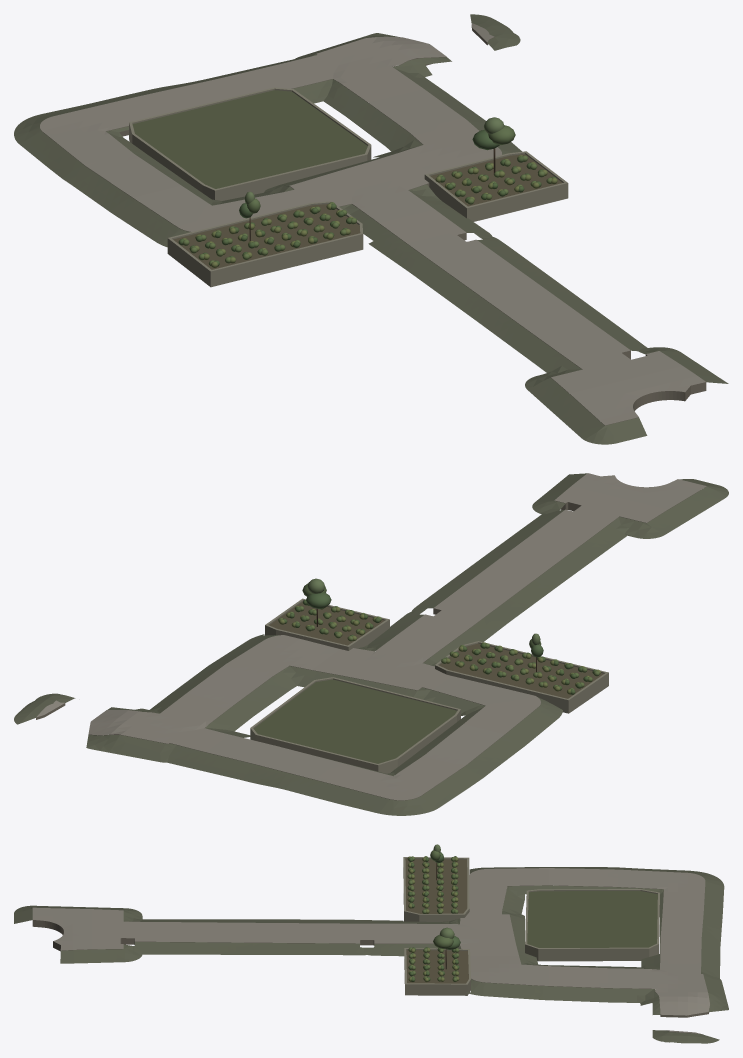
The model's file is site.glb.
3 views of the same model, one above another, from view 1: azimuth 30°, elevation 25°; view 2: azimuth 150°, elevation 25°; view 3: azimuth 270°, elevation 25° (orthographic). The views are drawn at different scales.
Parts seen in each view (by area): view 1: onyx-bridge-underpass, onyx-bridge-garden-soil, onyx-bridge-garden-curbs, onyx-bridge-understory, onyx-bridge-walk-edges, onyx-bridge-inventory-trees; view 2: onyx-bridge-underpass, onyx-bridge-garden-soil, onyx-bridge-garden-curbs, onyx-bridge-understory, onyx-bridge-walk-edges, onyx-bridge-inventory-trees; view 3: onyx-bridge-underpass, onyx-bridge-garden-soil, onyx-bridge-garden-curbs, onyx-bridge-understory, onyx-bridge-walk-edges, onyx-bridge-inventory-trees.
Part boxes in pixels (x1,y1,x2,y2): onyx-bridge-underpass: [14, 14, 728, 444]; onyx-bridge-garden-soil: [132, 90, 562, 269]; onyx-bridge-garden-curbs: [129, 87, 568, 287]; onyx-bridge-understory: [178, 155, 557, 267]; onyx-bridge-walk-edges: [40, 25, 706, 425]; onyx-bridge-inventory-trees: [239, 117, 515, 240]; onyx-bridge-underpass: [14, 473, 728, 815]; onyx-bridge-garden-soil: [254, 601, 603, 763]; onyx-bridge-garden-curbs: [250, 598, 608, 773]; onyx-bridge-understory: [278, 600, 600, 694]; onyx-bridge-walk-edges: [36, 486, 706, 800]; onyx-bridge-inventory-trees: [302, 578, 543, 672]; onyx-bridge-underpass: [14, 867, 728, 1043]; onyx-bridge-garden-soil: [405, 859, 657, 983]; onyx-bridge-garden-curbs: [403, 857, 659, 995]; onyx-bridge-understory: [407, 856, 459, 982]; onyx-bridge-walk-edges: [32, 885, 708, 1034]; onyx-bridge-inventory-trees: [430, 844, 460, 969].
Size of the model in its own units: 23.72 by 3.48 by 41.06.
